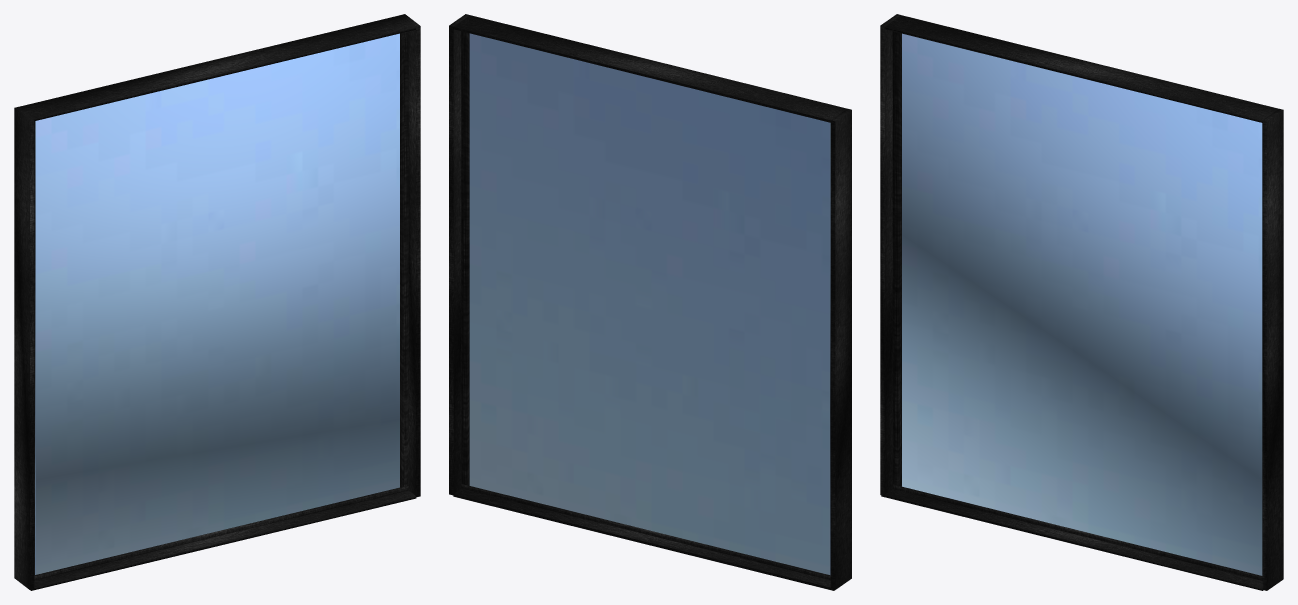
The model's file is Ventana16.obj.
The picture shows the model from 3 angles, left to right: view 1: azimuth 30°, elevation 25°; view 2: azimuth 150°, elevation 25°; view 3: azimuth 330°, elevation 25°; orthographic projection.
Parts seen in each view (by area): view 1: polySurface87; view 2: polySurface87; view 3: polySurface87.
Part boxes in pixels (box(x1,y1,x2,y2)): polySurface87: box(14, 14, 420, 590); polySurface87: box(449, 14, 851, 590); polySurface87: box(880, 14, 1283, 590).
Bounding box in the file's own units: 1.88 × 2.17 × 0.148.
Materials: 2 (2 with a texture image).
